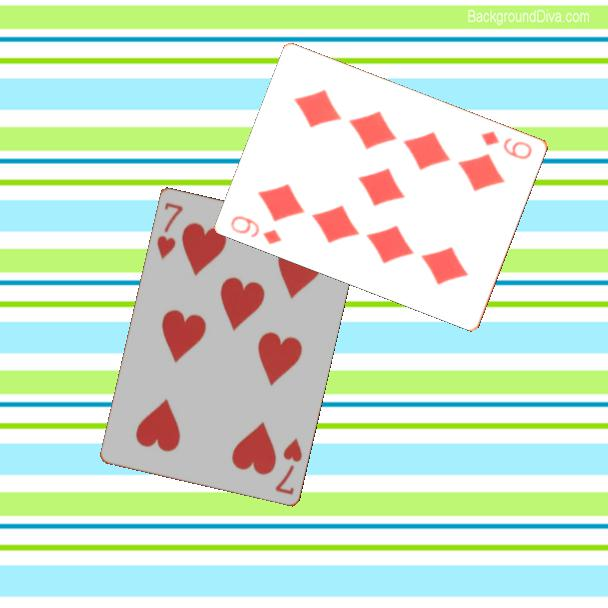d09: (478, 127, 536, 162), (227, 212, 285, 247)
h07: (271, 434, 305, 497), (153, 199, 186, 262)
